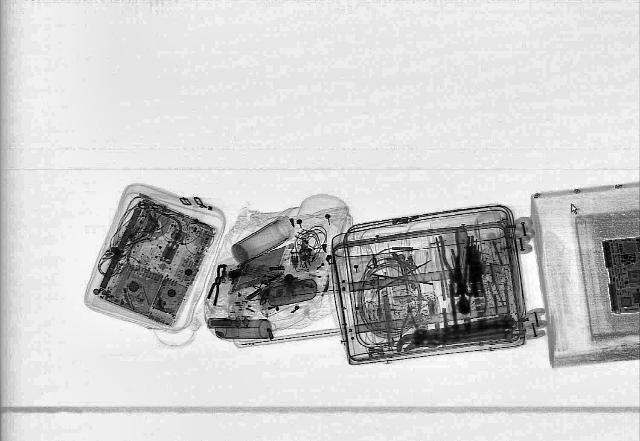Pliers: (432, 227, 470, 287), (398, 302, 422, 340)
